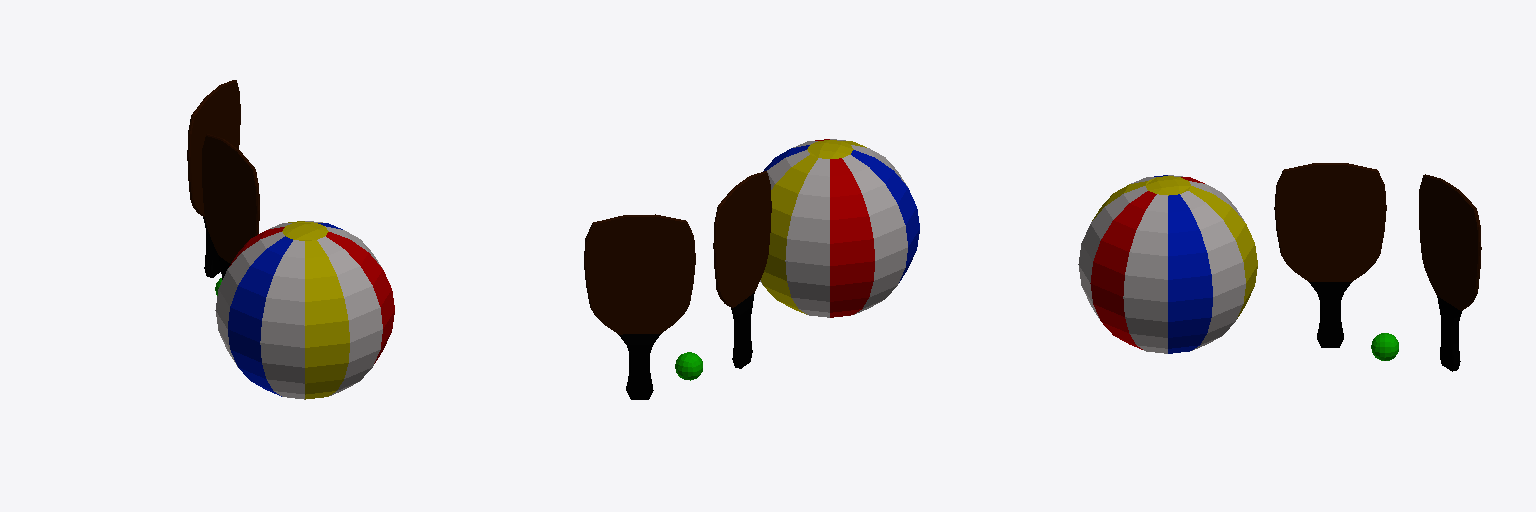
Rendered from BeachItemsOBJ.obj.
3 renders of one model, left to right at view 1: azimuth 30°, elevation 25°; view 2: azimuth 150°, elevation 25°; view 3: azimuth 270°, elevation 25°, orthographic.
Parts seen in each view (by area): view 1: BeachBall, Racket, Racket2; view 2: BeachBall, Racket2, Racket, RacketBall; view 3: BeachBall, Racket, Racket2, RacketBall.
Part boxes in pixels (x1,y1,x2,y2): BeachBall: (215, 221, 394, 399); Racket: (202, 134, 259, 279); Racket2: (187, 80, 240, 277); BeachBall: (760, 139, 919, 317); Racket2: (584, 214, 695, 399); Racket: (713, 171, 771, 368); RacketBall: (675, 352, 702, 380); BeachBall: (1078, 175, 1257, 353); Racket: (1274, 163, 1386, 347); Racket2: (1419, 174, 1481, 371); RacketBall: (1371, 333, 1398, 360).
Size of the model in its own units: 0.74 by 0.7775 by 1.53.